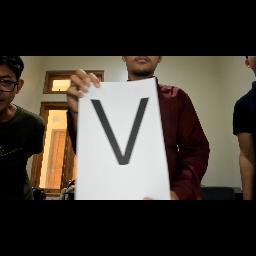v: (88, 92, 156, 170)
